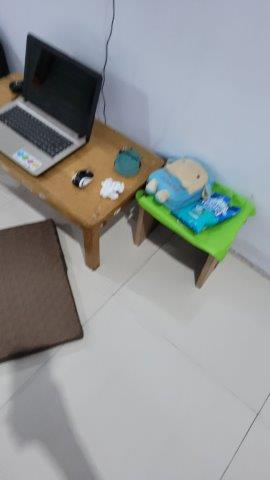kertas: (98, 177, 124, 199)
